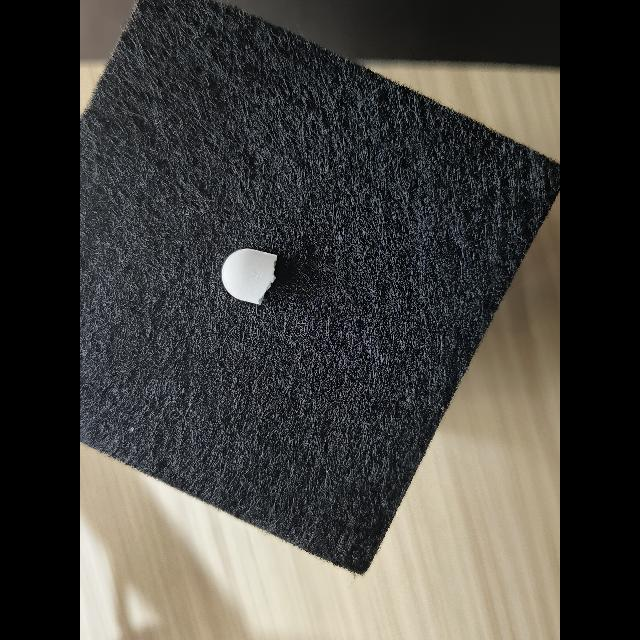Chipped Pill: (222, 248, 277, 305)
